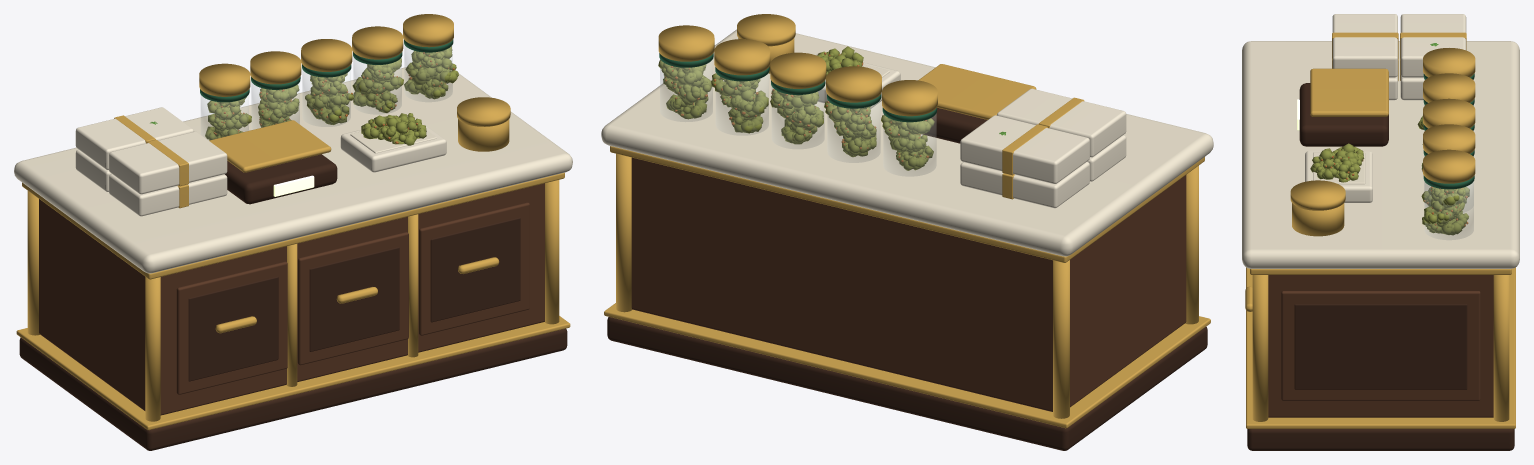
File: pack_bench.glb
3 views of the same model, side by side, from view 1: azimuth 30°, elevation 25°; view 2: azimuth 150°, elevation 25°; view 3: azimuth 270°, elevation 25° (orthographic). The views are drawn at different scales.
Parts seen in each view (by area): view 1: Top, Body, Plinth, DrawerInset1, DrawerInset2, DrawerInset0, PlinthBrass, Drawer1, Drawer0, Drawer2, Box3, ScalePan (+25 smaller); view 2: Body, Top, Plinth, PlinthBrass, Box1, Box3, TopBand, ScalePan, Box0, Jar1, Jar0, Jar4 (+15 smaller); view 3: Top, EndInset, Body, EndPanel, Plinth, PlinthBrass, ScalePan, Box3, ScaleBase, Box1, Column1-1, Column11 (+22 smaller).
Part boxes in pixels (x1=…): Top: x1=14, y1=67, x2=572, y2=273; Body: x1=39, y1=183, x2=544, y2=415; Plinth: x1=19, y1=328, x2=567, y2=450; DrawerInset1: x1=309, y1=247, x2=399, y2=351; DrawerInset2: x1=430, y1=217, x2=520, y2=322; DrawerInset0: x1=188, y1=276, x2=278, y2=381; PlinthBrass: x1=16, y1=316, x2=570, y2=430; Drawer1: x1=297, y1=232, x2=408, y2=365; Drawer0: x1=176, y1=261, x2=287, y2=394; Drawer2: x1=419, y1=202, x2=529, y2=335; Box3: x1=109, y1=131, x2=227, y2=194; ScalePan: x1=209, y1=120, x2=331, y2=172; Body: x1=631, y1=157, x2=1186, y2=411; Top: x1=601, y1=29, x2=1213, y2=256; Plinth: x1=607, y1=317, x2=1207, y2=450; PlinthBrass: x1=604, y1=303, x2=1210, y2=428; Box1: x1=960, y1=115, x2=1089, y2=183; Box3: x1=996, y1=88, x2=1126, y2=157; TopBand: x1=610, y1=146, x2=1204, y2=262; ScalePan: x1=918, y1=64, x2=1036, y2=119; Box0: x1=960, y1=162, x2=1089, y2=208; Jar1: x1=827, y1=101, x2=880, y2=162; Jar0: x1=883, y1=114, x2=936, y2=176; Jar4: x1=660, y1=60, x2=712, y2=121; Top: x1=1242, y1=41, x2=1519, y2=268; EndInset: x1=1294, y1=304, x2=1467, y2=389; Body: x1=1268, y1=275, x2=1493, y2=417; EndPanel: x1=1281, y1=291, x2=1480, y2=400; Plinth: x1=1247, y1=429, x2=1514, y2=450; PlinthBrass: x1=1246, y1=267, x2=1515, y2=428; ScalePan: x1=1310, y1=68, x2=1388, y2=116; Box3: x1=1332, y1=14, x2=1397, y2=77; ScaleBase: x1=1299, y1=83, x2=1388, y2=146; Box1: x1=1400, y1=14, x2=1466, y2=77; Column1-1: x1=1252, y1=275, x2=1268, y2=421; Column11: x1=1493, y1=275, x2=1509, y2=421.
Size of the model in its own units: 1.94 by 1.14 by 1.06.
